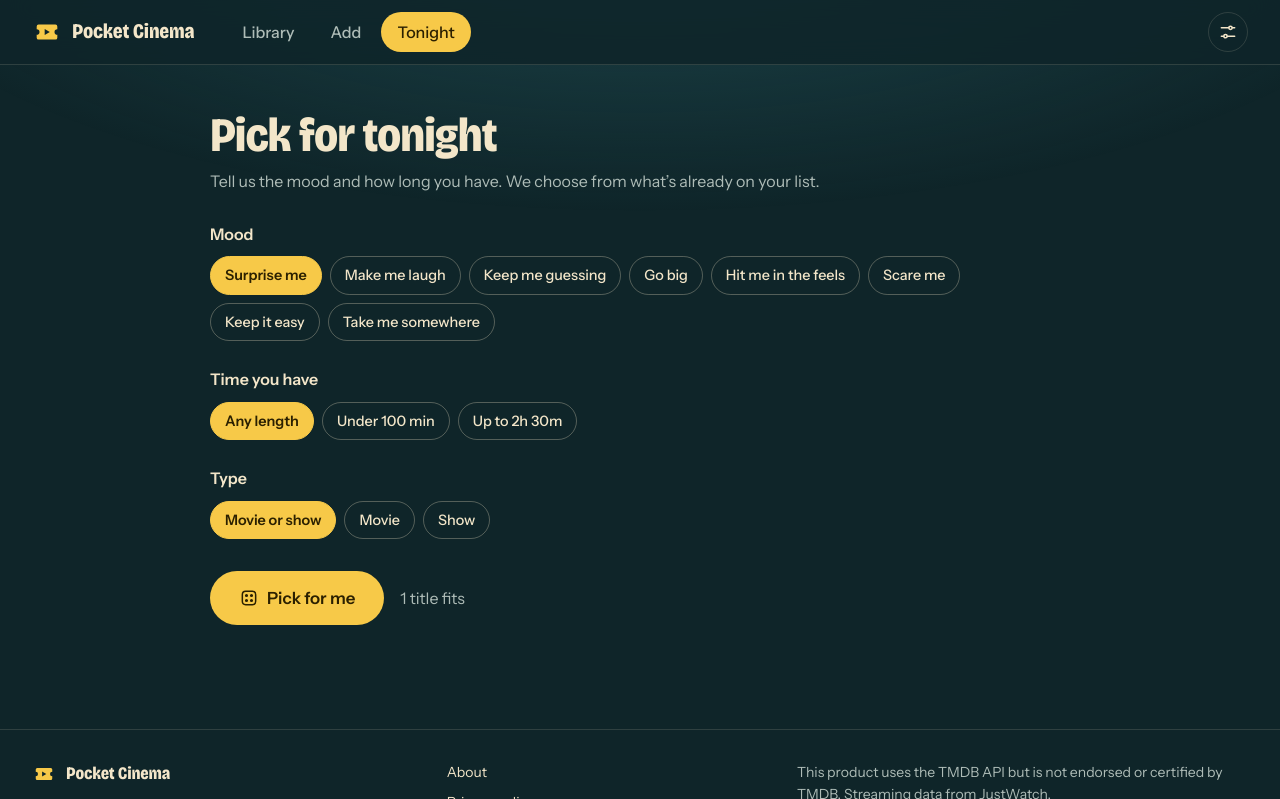
Test case: tonight prints a ticket from unwatched titles only
This screenshot has width=1280, height=799.
Click the button "Pick for me": (297, 598) [210, 571, 384, 625]
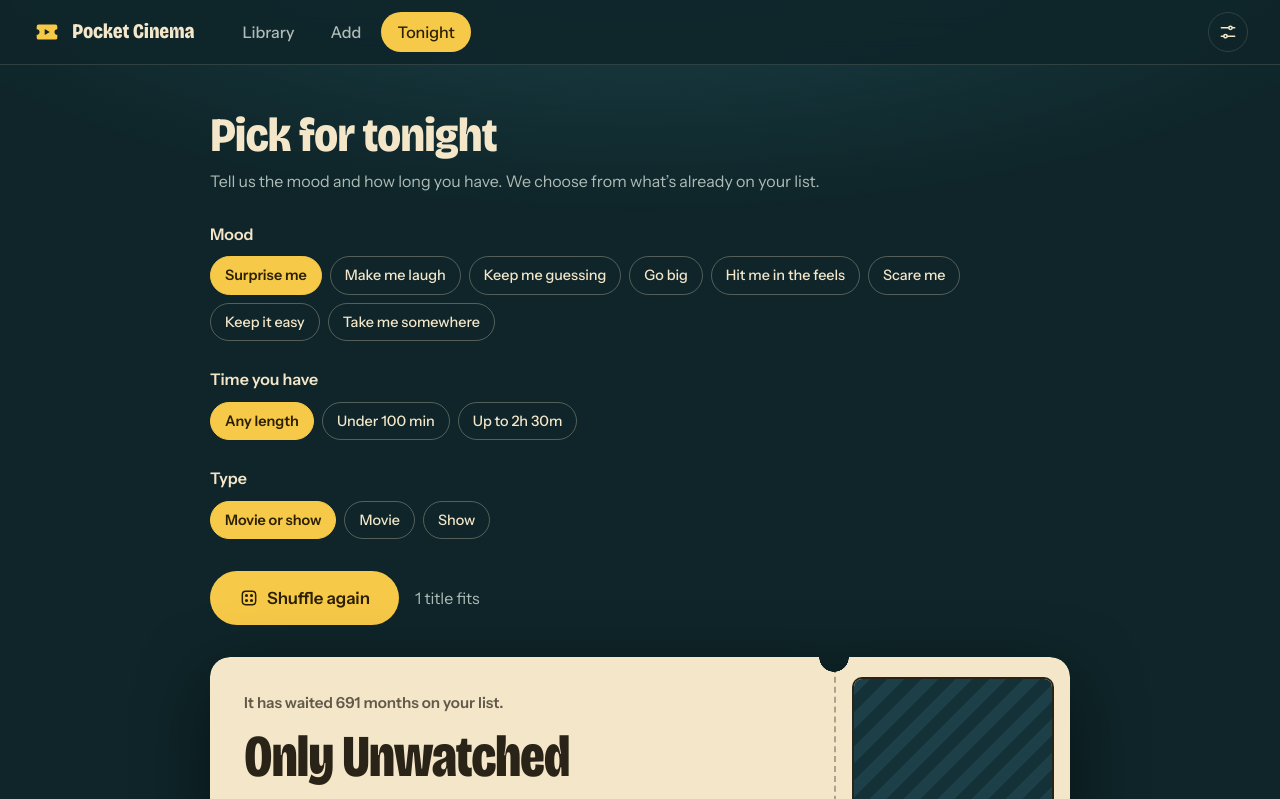
Expected: the heading "Only Unwatched" is shown, [244, 721, 569, 792]
